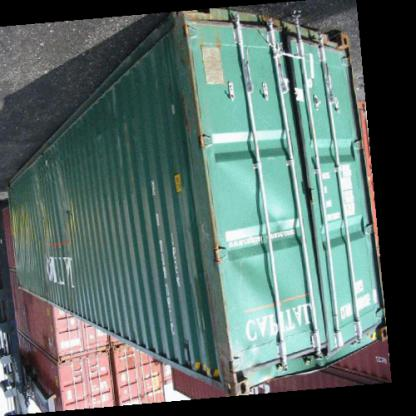Damage: (206, 272, 388, 390), (8, 171, 78, 282), (86, 106, 145, 152)
